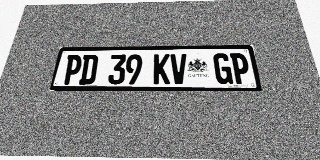3: (107, 54, 126, 84)
9: (124, 54, 143, 84)
D: (78, 55, 99, 84)
G: (213, 53, 233, 84)
K: (153, 54, 170, 84)
P: (230, 53, 251, 84), (62, 55, 83, 84)
V: (170, 54, 188, 84)
